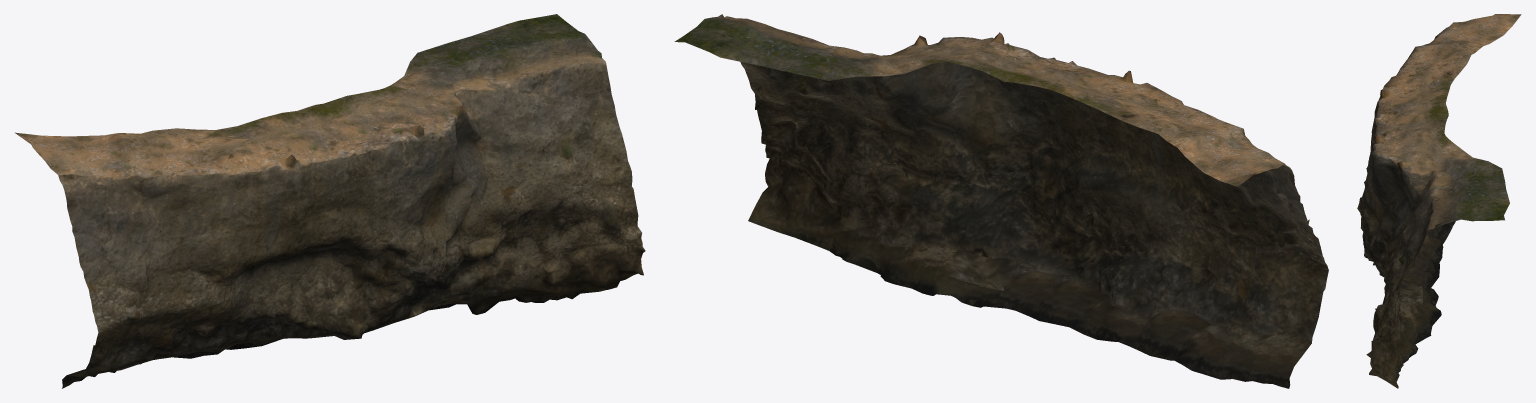
Rendered from cliff_scan_lod2.fbx.
The picture shows the model from 3 angles, left to right: view 1: azimuth 30°, elevation 25°; view 2: azimuth 150°, elevation 25°; view 3: azimuth 270°, elevation 25°; orthographic projection. The views are drawn at different scales.
Parts seen in each view (by area): view 1: cliff_section_2; view 2: cliff_section_2; view 3: cliff_section_2.
Part boxes in pixels (x1=…): cliff_section_2: x1=15, y1=14, x2=645, y2=388; cliff_section_2: x1=674, y1=14, x2=1328, y2=388; cliff_section_2: x1=1357, y1=14, x2=1521, y2=388.
Size of the model in its own units: 2401 by 999 by 821.
Materials: 1 (1 with a texture image).
